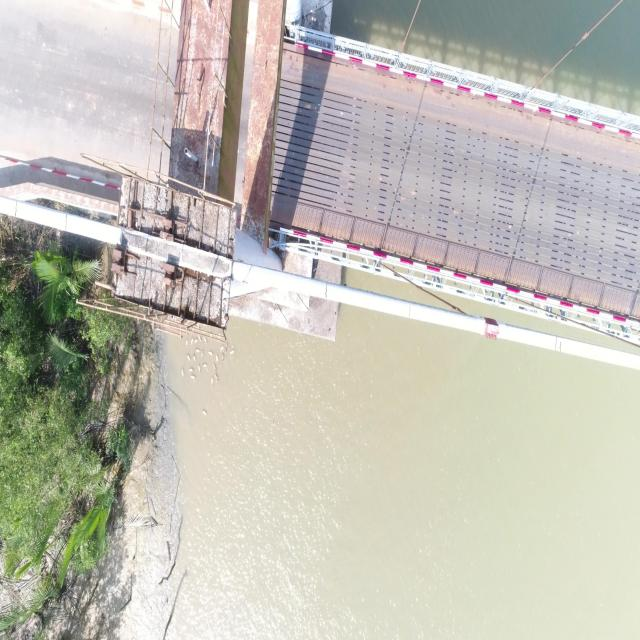crack: (15, 200, 18, 216), (325, 282, 328, 298), (65, 213, 67, 231), (555, 336, 557, 351), (409, 303, 411, 317), (559, 342, 561, 352)
